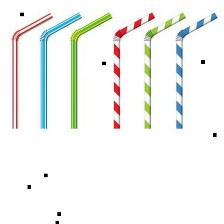drinking_straw: (169, 8, 222, 130), (106, 8, 158, 128), (65, 10, 117, 129), (138, 9, 188, 129), (36, 7, 84, 129), (7, 10, 55, 128)
